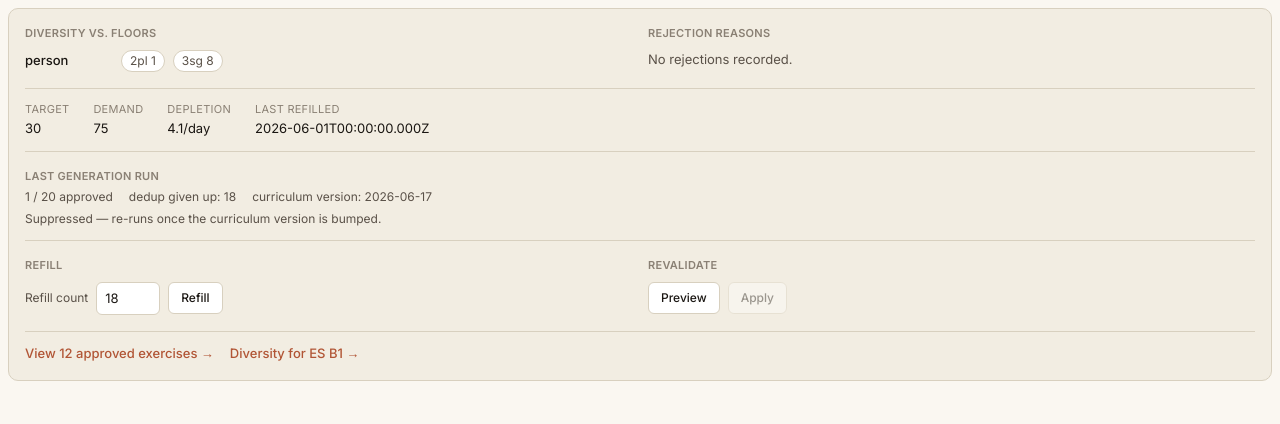
Test: PoolCellDetail — refill › shows a generic failure message on a non-409 error
Click the button "Refill" at (195, 298), box [168,282,223,314]
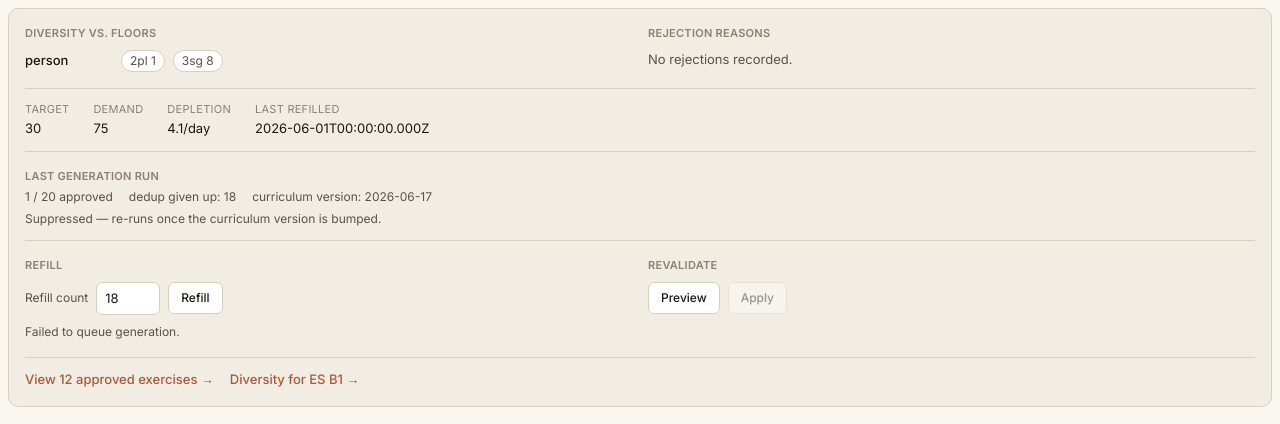
expect the text "Failed to queue generation." is shown: met, box [25,324,180,339]
